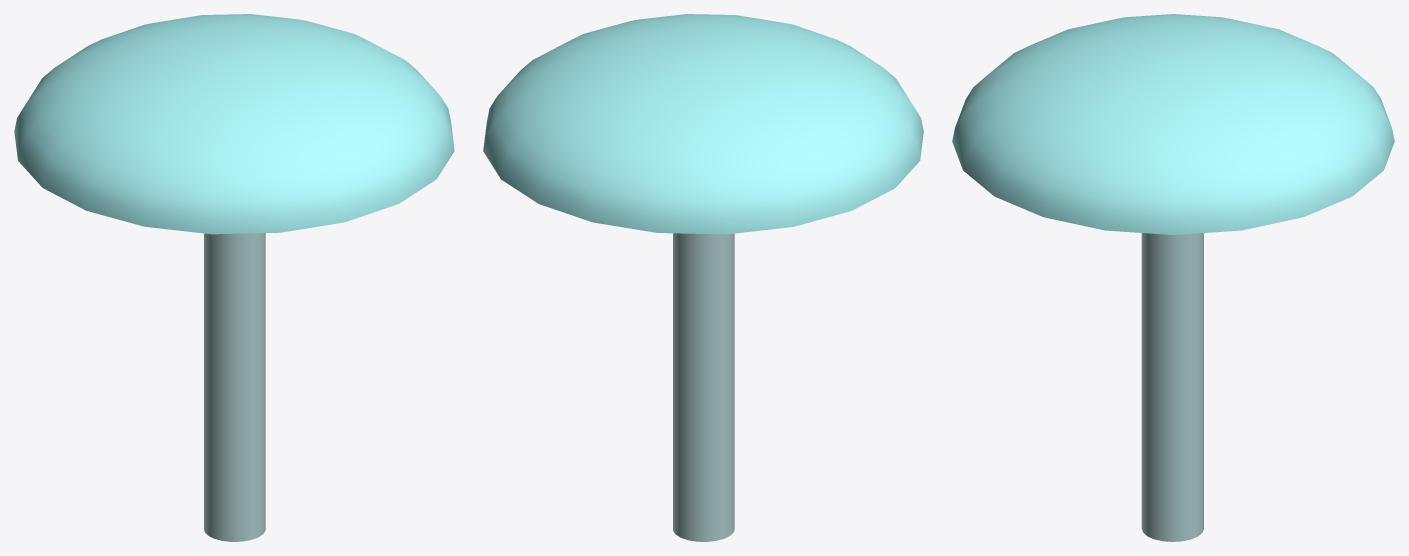
The model's file is giant mushroom.fbx.
The picture shows the model from 3 angles, left to right: view 1: azimuth 30°, elevation 25°; view 2: azimuth 150°, elevation 25°; view 3: azimuth 270°, elevation 25°; orthographic projection.
Parts seen in each view (by area): view 1: mushroom_head, giant_mushroom1; view 2: mushroom_head, giant_mushroom1; view 3: mushroom_head, giant_mushroom1.
Boxes of the visible parts, <box> form: mushroom_head: <box>14,14,454,234</box>; giant_mushroom1: <box>204,233,265,541</box>; mushroom_head: <box>483,14,923,234</box>; giant_mushroom1: <box>673,233,734,541</box>; mushroom_head: <box>952,14,1394,234</box>; giant_mushroom1: <box>1141,233,1203,541</box>.
Bounding box in the file's own units: 14.24 × 16.83 × 14.24.
